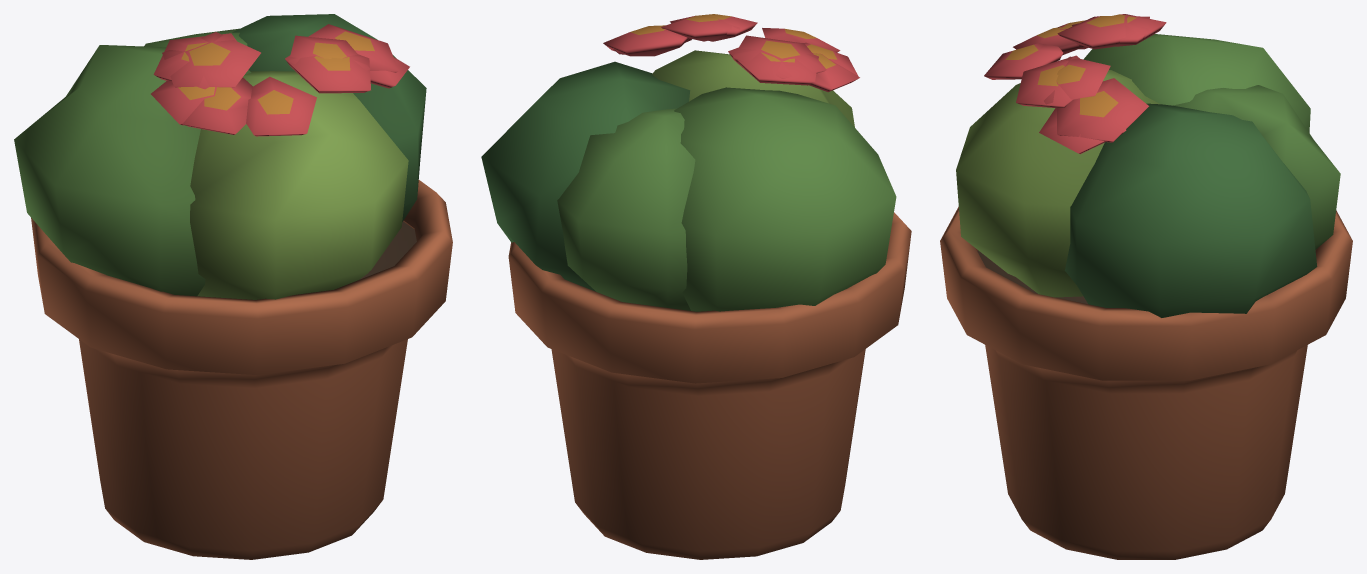
File: PotA.fbx
The picture shows the model from 3 angles, left to right: view 1: azimuth 30°, elevation 25°; view 2: azimuth 150°, elevation 25°; view 3: azimuth 270°, elevation 25°; orthographic projection. The views are drawn at different scales.
Parts seen in each view (by area): view 1: PotA; view 2: PotA; view 3: PotA.
Part boxes in pixels (x1,y1,x2,y2): PotA: (14,14,452,559); PotA: (481,14,911,559); PotA: (940,14,1352,559).
Bounding box in the file's own units: 0.3636 × 0.4365 × 0.352.
